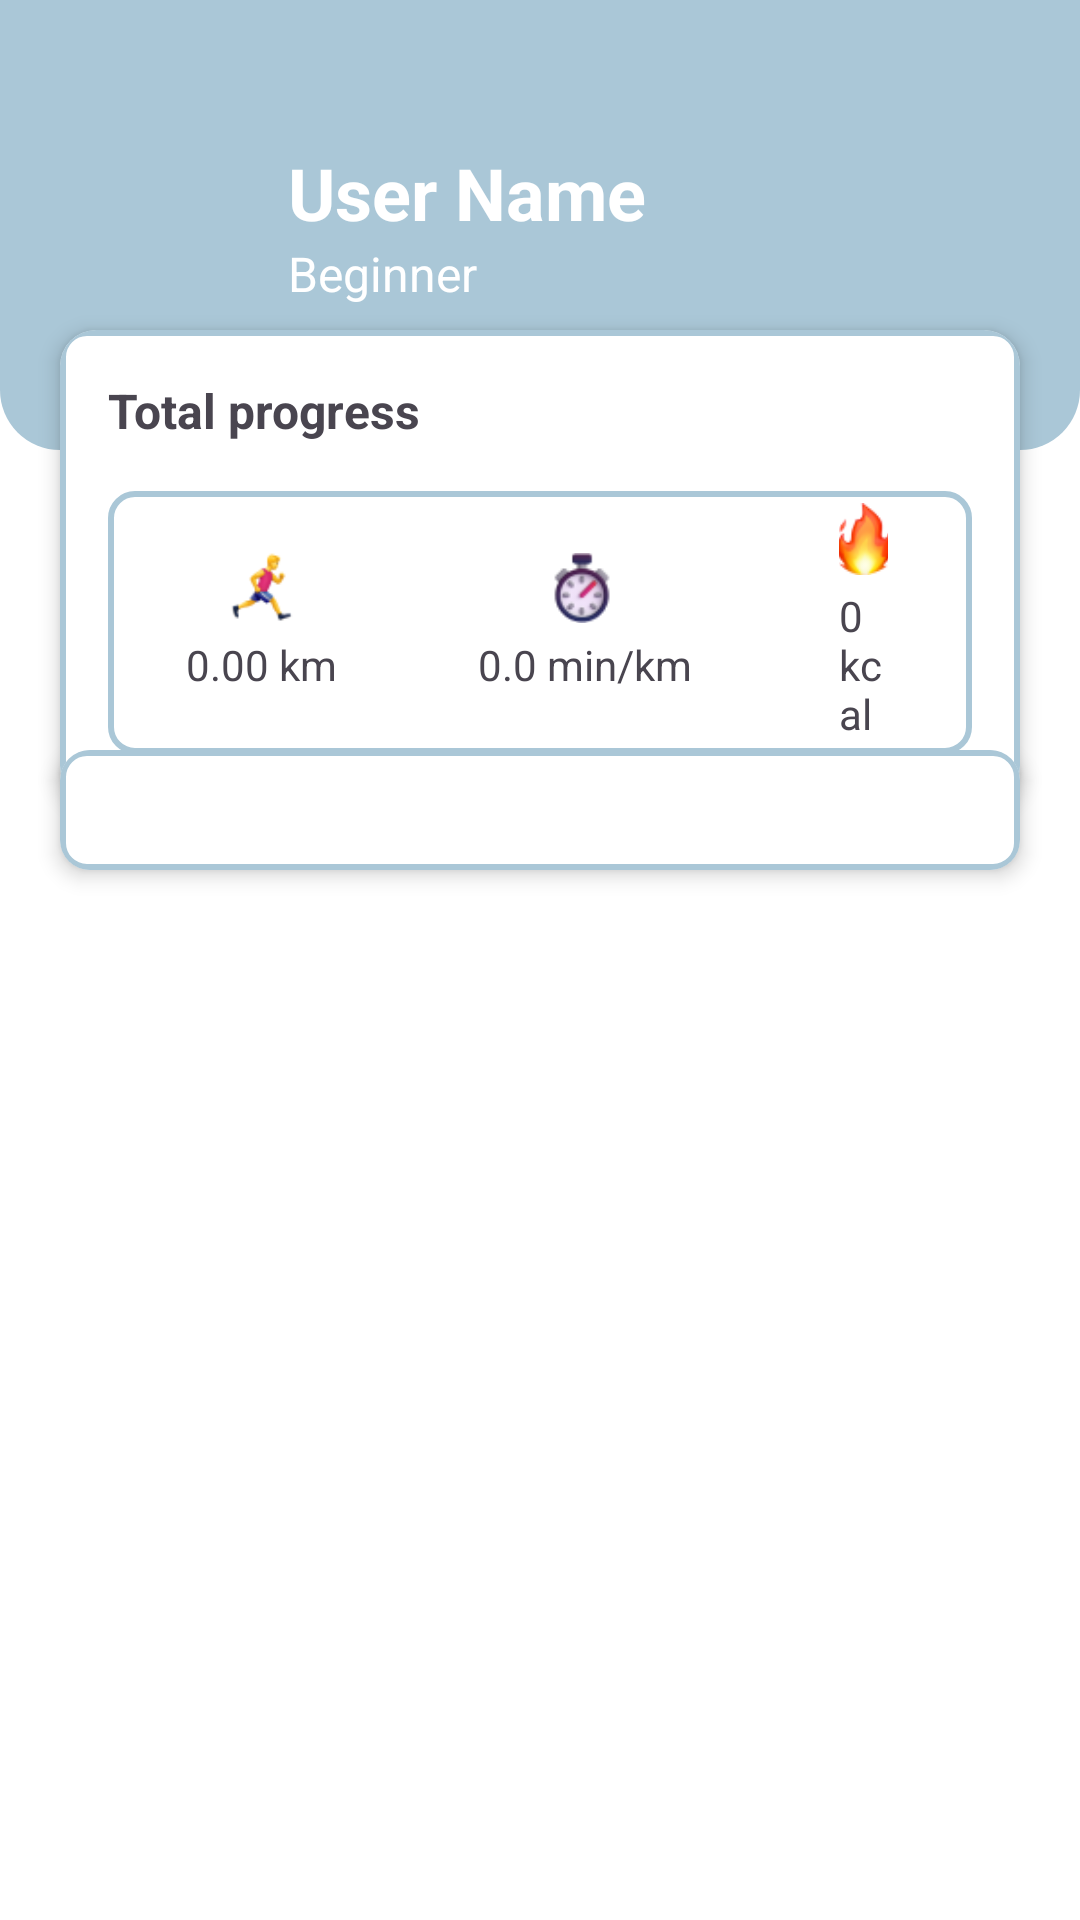

Icon bounding boxes for this 1080 x 1920 phone screenshot, format (x1, y1, x2, y2):
api: (839, 503, 888, 575)
orang: (232, 553, 291, 621)
